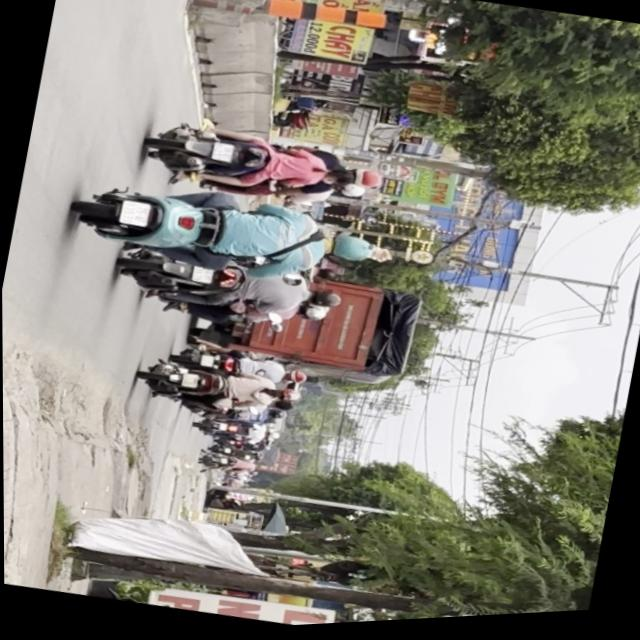helmet: (326, 232, 375, 268), (346, 166, 385, 194), (307, 288, 345, 313), (337, 183, 367, 203)
licenseplate: (66, 159, 383, 305), (139, 106, 392, 228), (112, 240, 347, 348)
motorcyclist: (316, 166, 355, 194)
nohelmet: (119, 198, 152, 229), (212, 142, 238, 165), (191, 265, 215, 284)
